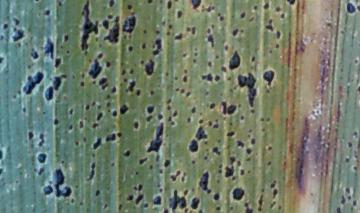tarspot: (82, 1, 99, 52), (237, 73, 257, 107), (22, 71, 44, 95), (147, 122, 164, 153), (54, 168, 72, 197), (103, 18, 120, 43), (167, 190, 187, 209), (122, 14, 137, 34), (87, 58, 102, 78), (197, 171, 210, 192), (43, 37, 54, 59), (10, 26, 24, 42), (229, 51, 240, 70), (151, 37, 162, 55), (262, 70, 275, 85), (232, 186, 245, 201), (87, 162, 96, 182), (195, 127, 208, 140), (187, 139, 199, 153), (200, 71, 213, 83), (43, 87, 54, 101), (145, 60, 154, 75), (207, 34, 216, 49), (92, 137, 102, 150), (42, 184, 53, 195), (347, 2, 356, 15), (52, 76, 61, 89), (119, 103, 128, 116), (225, 164, 234, 177), (37, 152, 47, 163), (38, 132, 45, 147), (258, 195, 264, 212), (170, 171, 180, 181), (191, 1, 202, 10), (12, 15, 21, 26), (105, 133, 116, 142), (136, 193, 144, 205), (128, 79, 135, 92), (53, 58, 62, 68), (145, 104, 154, 114), (30, 49, 39, 59), (227, 105, 237, 114), (191, 198, 200, 208), (153, 195, 162, 205), (231, 27, 239, 38), (221, 101, 227, 115), (122, 149, 131, 158), (236, 140, 245, 149), (340, 195, 347, 206), (139, 157, 148, 165), (212, 147, 220, 156), (62, 33, 69, 43), (229, 155, 236, 165), (133, 120, 139, 131), (95, 113, 103, 121), (99, 77, 107, 85), (103, 20, 110, 29), (77, 80, 86, 87), (164, 159, 171, 168), (274, 4, 281, 13), (127, 193, 134, 202), (176, 9, 182, 19), (286, 1, 296, 7), (272, 189, 278, 199), (105, 13, 113, 20), (108, 1, 115, 9), (125, 3, 133, 10), (52, 118, 59, 126), (43, 9, 51, 16), (175, 33, 183, 40), (212, 122, 220, 129), (265, 24, 273, 31), (276, 29, 281, 40), (166, 1, 172, 10), (120, 68, 126, 77), (84, 103, 90, 112), (78, 120, 84, 129), (28, 131, 34, 140), (182, 74, 188, 83), (214, 192, 220, 201), (135, 88, 142, 95), (110, 86, 117, 93), (269, 202, 276, 209), (60, 73, 68, 79), (263, 2, 269, 10), (221, 65, 227, 73), (227, 131, 235, 137), (250, 137, 256, 145), (95, 189, 100, 198), (173, 109, 178, 118), (39, 167, 44, 176), (105, 61, 111, 68), (96, 52, 103, 58), (2, 23, 9, 29), (166, 98, 172, 105), (209, 103, 216, 109), (207, 60, 213, 67), (160, 19, 166, 26), (267, 18, 273, 25), (249, 16, 255, 23), (246, 147, 252, 154), (347, 141, 353, 148), (246, 207, 253, 213), (68, 122, 73, 130), (69, 108, 74, 116), (191, 26, 196, 34), (191, 106, 196, 114), (215, 74, 220, 82), (81, 72, 86, 80), (224, 44, 229, 52), (241, 12, 246, 20), (251, 55, 256, 63), (240, 169, 245, 177), (138, 183, 143, 191), (118, 203, 123, 211), (1, 55, 5, 64), (250, 108, 256, 114), (239, 115, 245, 121), (230, 175, 236, 181), (78, 201, 84, 207), (353, 58, 359, 64), (128, 45, 133, 52), (129, 68, 134, 75), (141, 42, 146, 49), (102, 84, 109, 89), (183, 67, 188, 74), (158, 113, 163, 120), (165, 71, 170, 78), (253, 4, 258, 11), (237, 160, 242, 167), (163, 208, 170, 213), (267, 160, 272, 167), (345, 187, 350, 194), (353, 199, 358, 206), (336, 206, 341, 213), (277, 204, 282, 211), (156, 155, 160, 163), (57, 1, 62, 7), (65, 49, 70, 55), (22, 107, 27, 113), (155, 30, 161, 35), (168, 24, 173, 30), (92, 79, 97, 85), (113, 110, 118, 116), (97, 104, 102, 110), (93, 123, 98, 129), (75, 140, 80, 146), (175, 87, 180, 93), (147, 115, 152, 121), (174, 75, 179, 81), (207, 7, 212, 13), (117, 132, 122, 138), (170, 121, 176, 126), (167, 116, 172, 122), (199, 119, 204, 125), (203, 155, 208, 161), (280, 13, 285, 19), (266, 89, 271, 95), (267, 146, 273, 151), (353, 130, 358, 136), (248, 128, 253, 134), (144, 202, 149, 208), (216, 206, 221, 212), (347, 195, 352, 201), (216, 178, 221, 184), (133, 185, 138, 191), (103, 203, 108, 209), (91, 101, 96, 107), (83, 136, 87, 143), (167, 105, 171, 112), (207, 27, 211, 34), (91, 152, 95, 159), (181, 176, 185, 183), (345, 157, 349, 164), (70, 197, 74, 204), (357, 85, 360, 94), (150, 90, 155, 95), (106, 102, 111, 107), (106, 94, 111, 99), (123, 35, 128, 40), (17, 90, 22, 95), (12, 94, 17, 99), (227, 76, 232, 81), (275, 44, 280, 49), (268, 49, 273, 54), (218, 164, 223, 169), (260, 117, 265, 122), (261, 127, 266, 132), (134, 171, 139, 176), (156, 183, 161, 188), (271, 183, 276, 188), (217, 138, 222, 143), (140, 59, 144, 65), (143, 29, 147, 35), (187, 26, 191, 32), (181, 88, 185, 94), (183, 53, 187, 59), (28, 64, 32, 70), (187, 117, 191, 123), (191, 159, 195, 165), (209, 119, 212, 127), (357, 5, 360, 13), (218, 168, 222, 174), (245, 157, 251, 161), (33, 167, 37, 173), (1, 149, 3, 160), (221, 15, 224, 22), (212, 23, 215, 30), (18, 42, 21, 49), (1, 34, 4, 41), (123, 78, 127, 83), (167, 31, 171, 36), (61, 159, 65, 164), (186, 92, 190, 97), (217, 12, 222, 16), (193, 59, 197, 64), (195, 52, 199, 57), (95, 37, 99, 42), (60, 45, 64, 50), (42, 111, 47, 115), (72, 74, 76, 79), (111, 162, 115, 167), (204, 140, 208, 145), (216, 55, 220, 60), (240, 29, 245, 33), (215, 118, 219, 123), (159, 169, 163, 174), (184, 190, 188, 195), (184, 208, 188, 213), (199, 209, 204, 213), (245, 202, 249, 207), (261, 188, 265, 193), (107, 108, 111, 113), (147, 1, 153, 4), (150, 164, 153, 170), (354, 165, 357, 171), (229, 122, 233, 126), (247, 170, 251, 174), (230, 206, 234, 210), (212, 5, 215, 10), (160, 188, 163, 193), (34, 1, 40, 3)
